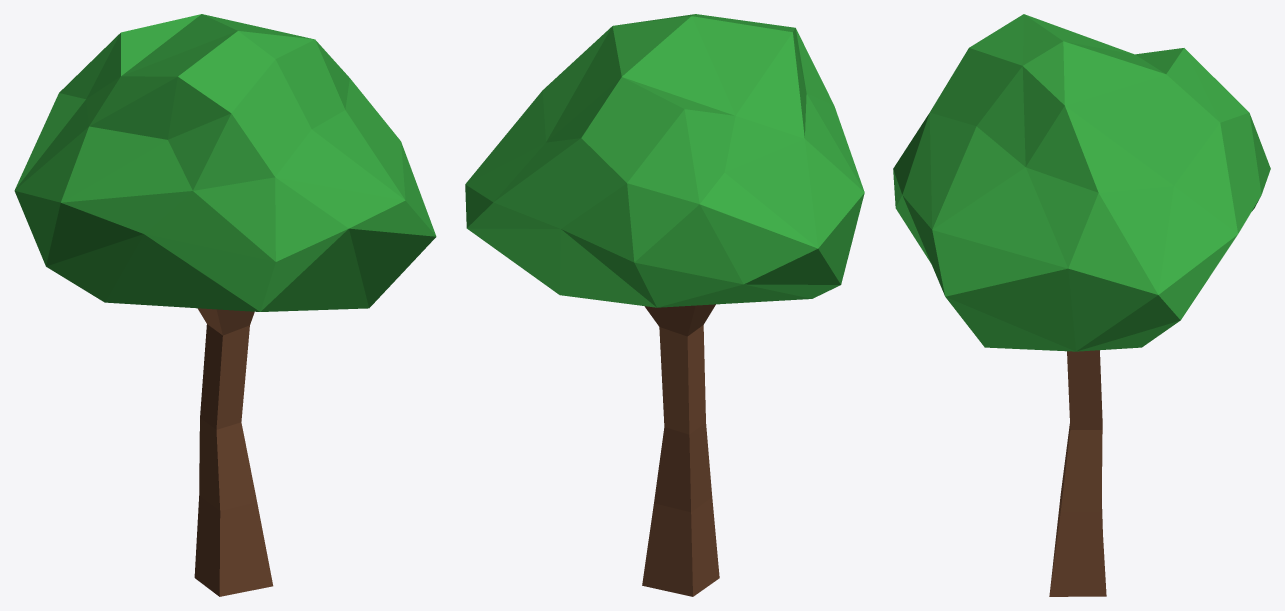
File: Tree_28_Green.fbx
3 renders of one model, left to right at view 1: azimuth 30°, elevation 25°; view 2: azimuth 150°, elevation 25°; view 3: azimuth 270°, elevation 25°, orthographic. The views are drawn at different scales.
Visible parts, largest first — view 1: Tree_28_Green_Part_1, Tree_28_Green_Part_2; view 2: Tree_28_Green_Part_1, Tree_28_Green_Part_2; view 3: Tree_28_Green_Part_1, Tree_28_Green_Part_2.
Boxes of the visible parts, x1,y1,x2,y2 form: Tree_28_Green_Part_1: [14, 14, 436, 311]; Tree_28_Green_Part_2: [194, 308, 273, 596]; Tree_28_Green_Part_1: [465, 14, 864, 307]; Tree_28_Green_Part_2: [642, 304, 719, 596]; Tree_28_Green_Part_1: [893, 14, 1270, 351]; Tree_28_Green_Part_2: [1049, 350, 1106, 596].
Size of the model in its own units: 529 by 802 by 506.
